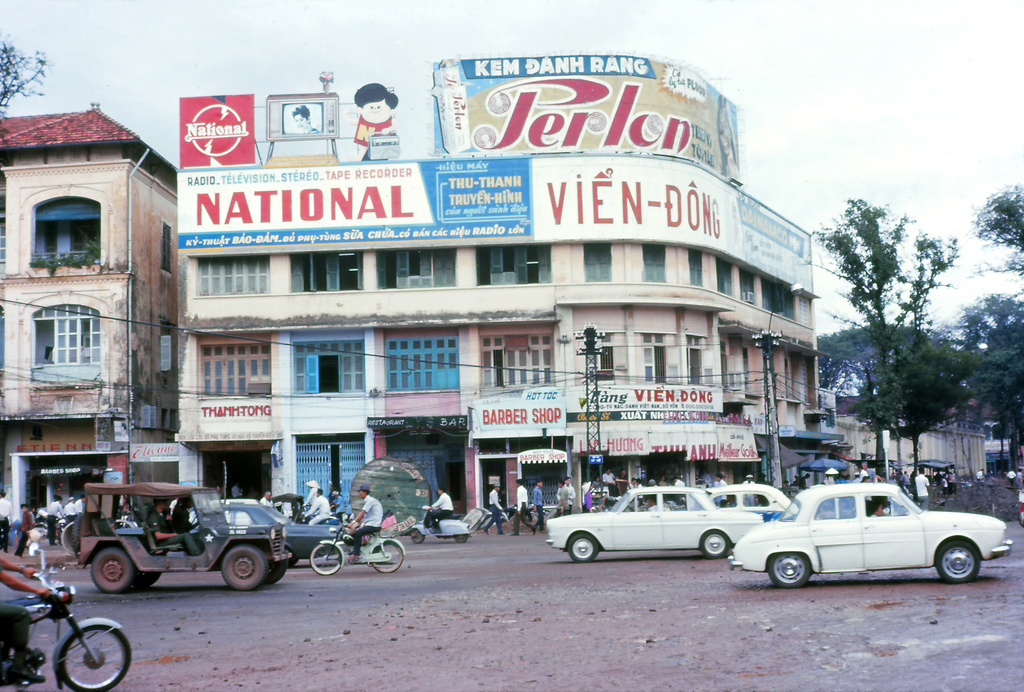mobil: (723, 480, 1012, 590), (68, 484, 288, 590), (547, 487, 748, 563)
